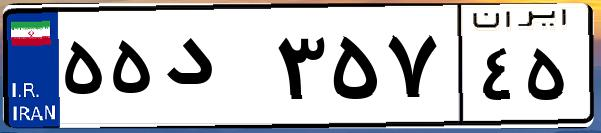3: (270, 28, 330, 110)
4: (475, 38, 525, 113)
5: (330, 28, 385, 110), (57, 26, 110, 100), (525, 38, 570, 115), (110, 28, 158, 98)
7: (385, 28, 445, 110)
د: (158, 20, 270, 120)
